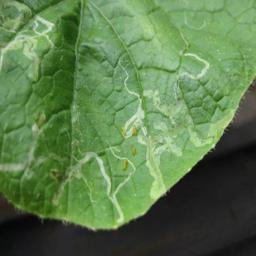liriomyza: (51, 147, 137, 224), (1, 1, 56, 73), (117, 62, 148, 147), (1, 120, 39, 180), (174, 51, 210, 97)
